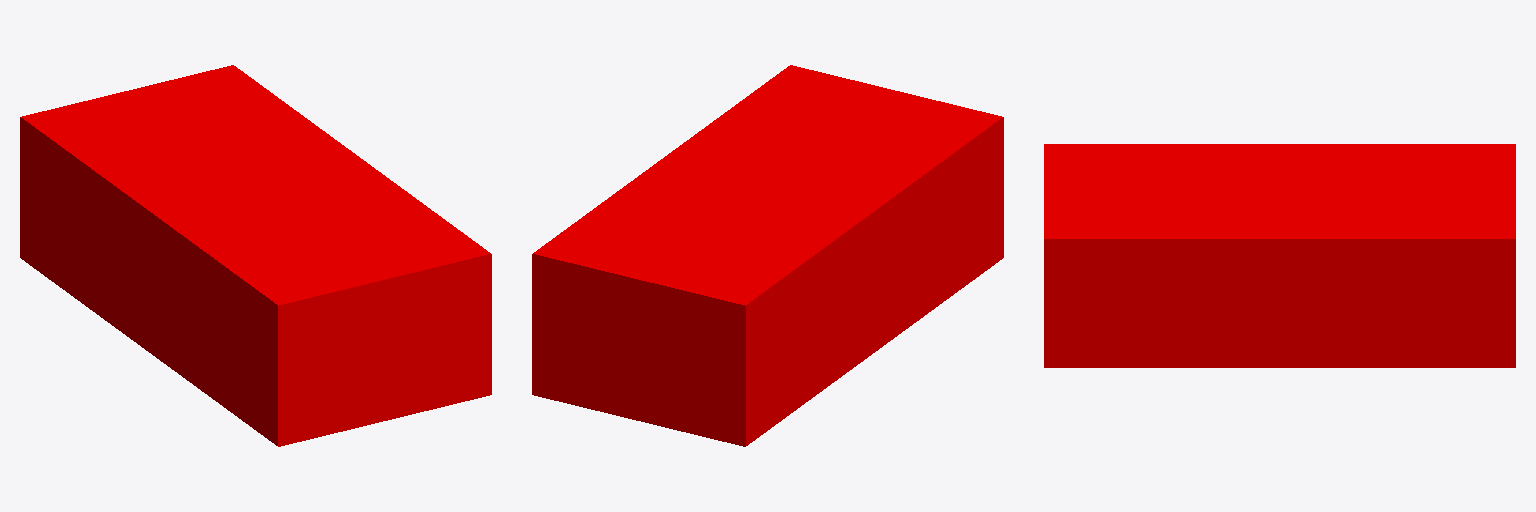
robot.urdf — brick:
<robot name="brick">
    <link name ="70mm_brick">
        <inertial>
            <mass value="0"/>
            <inertia ixx="0" ixy="0" ixz="0" iyy="0" iyz="0" izz="0"/>
        </inertial>
        <visual>
        <origin xyz='0 0 0' rpy='0 0 0'/>
        <geometry>
            <mesh filename="70mm_brick.dae"  scale="0.001 0.001 0.001" />
        </geometry>
        <material name="red">
            <color rgba="1 0 0 1"/>
        </material>
        </visual>
    </link>
</robot>

--- Render facts (derived) ---
The picture shows the robot from 3 angles, left to right: view 1: azimuth 30°, elevation 25°; view 2: azimuth 150°, elevation 25°; view 3: azimuth 270°, elevation 25°; orthographic projection.
Robot: brick — 1 links, 0 joints (none); root link 70mm_brick; default pose: all joints at 0.
Visible links, largest first — view 1: 70mm_brick; view 2: 70mm_brick; view 3: 70mm_brick.
Boxes of the visible links, x1,y1,x2,y2 form: 70mm_brick: [20, 65, 491, 446]; 70mm_brick: [532, 65, 1003, 446]; 70mm_brick: [1044, 144, 1515, 367].
Bounding box of the posed robot: 0.07 × 0.1468 × 0.0444 m (x, y, z).
Meshes: 1 distinct files referenced, 1 mesh visuals loaded (1 Collada DAE).